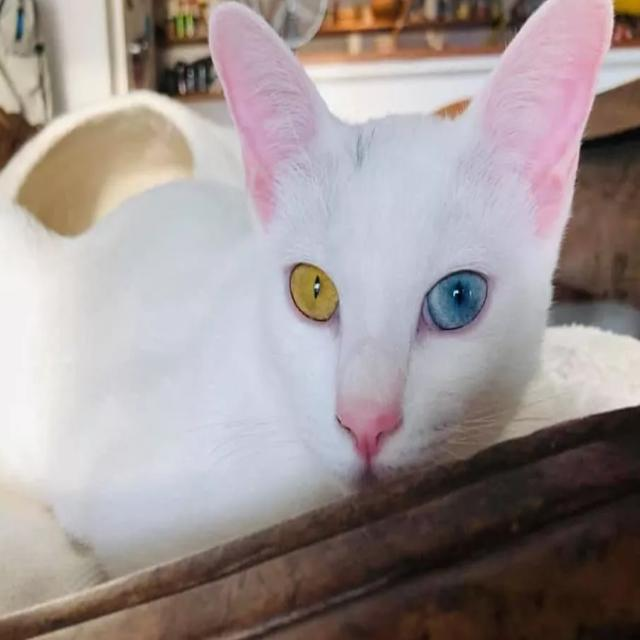Khao Manee: (0, 0, 617, 626)
